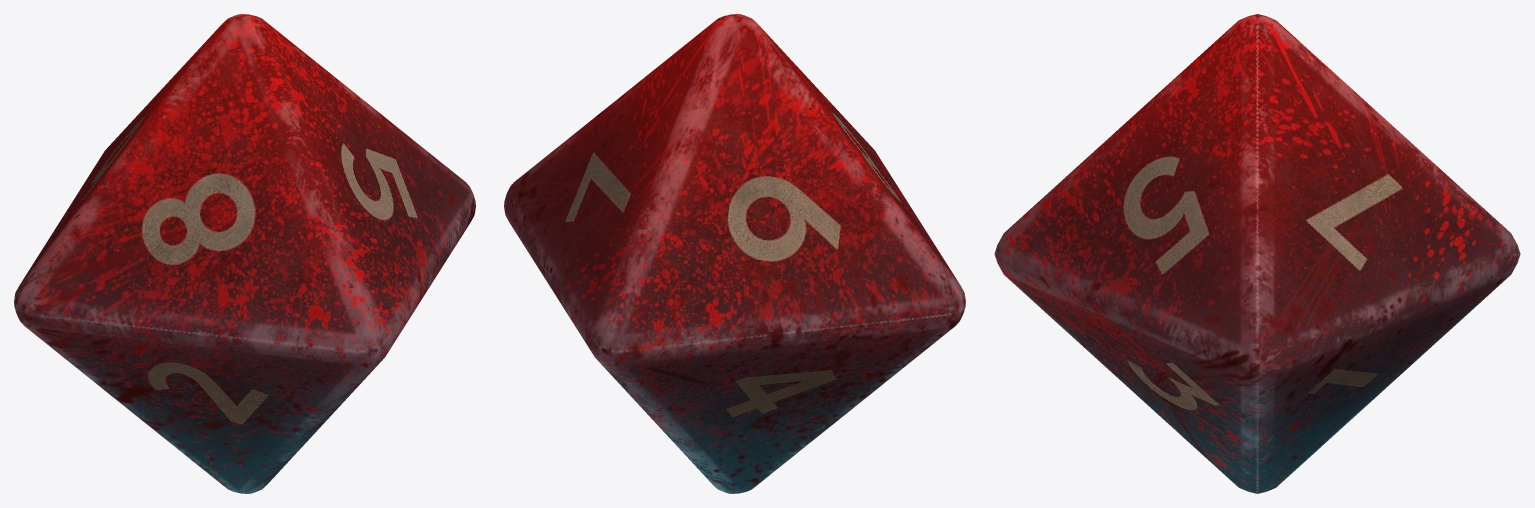
Rendered from TPK_d8.gltf.
3 renders of one model, left to right at view 1: azimuth 30°, elevation 25°; view 2: azimuth 150°, elevation 25°; view 3: azimuth 270°, elevation 25°, orthographic.
Parts seen in each view (by area): view 1: dice_8; view 2: dice_8; view 3: dice_8.
Boxes of the visible parts, x1,y1,x2,y2 form: dice_8: (14,14,475,493); dice_8: (504,14,965,493); dice_8: (994,14,1520,493).
Size of the model in its own units: 185 by 185 by 185.
1 material, 1 textured.
